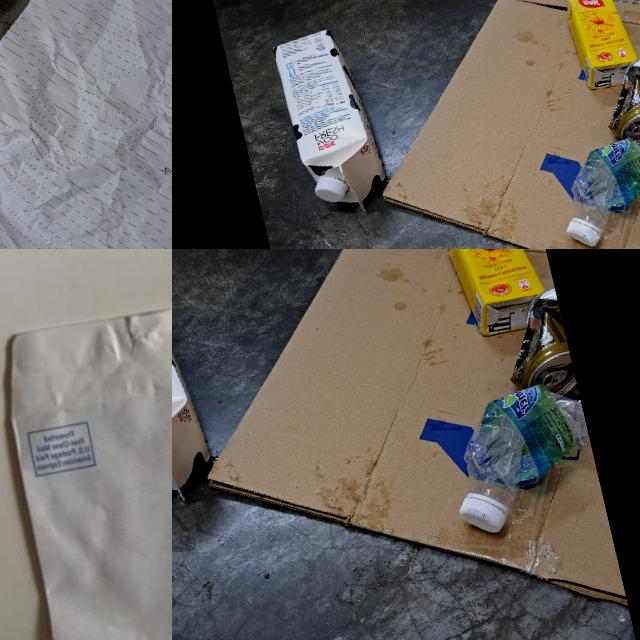aba de lata: (629, 122, 640, 135)
caixinha: (270, 22, 392, 222), (172, 258, 217, 516), (440, 249, 548, 338), (562, 0, 640, 91)
garrafa plástica: (436, 374, 606, 542), (560, 122, 640, 232)
lata: (492, 287, 582, 420), (595, 51, 640, 147)
papel: (0, 249, 172, 640), (0, 0, 172, 249)
papelão: (172, 249, 629, 640), (332, 0, 640, 249)
tampa plástica: (458, 484, 510, 540), (564, 214, 602, 249), (312, 175, 348, 206)
